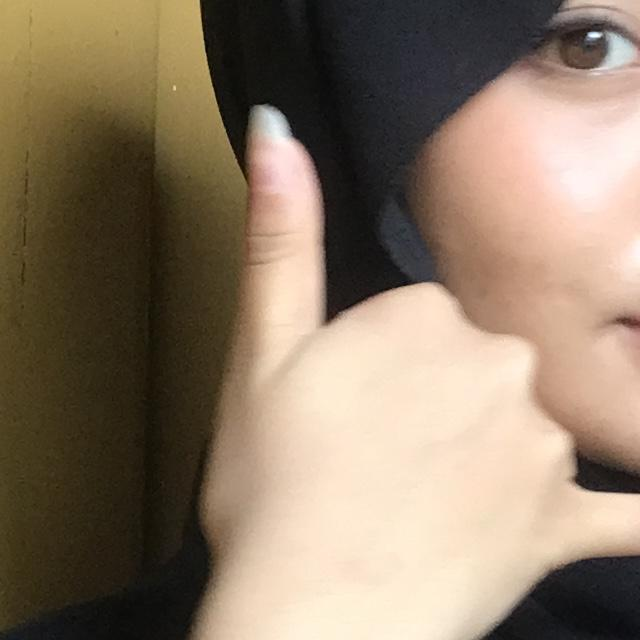telpon: (160, 76, 640, 640)
